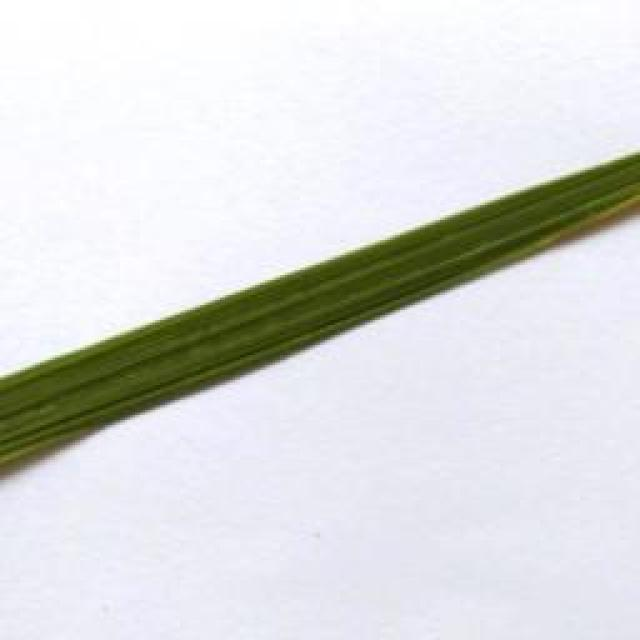Healthy-Plant: (0, 153, 640, 472)
